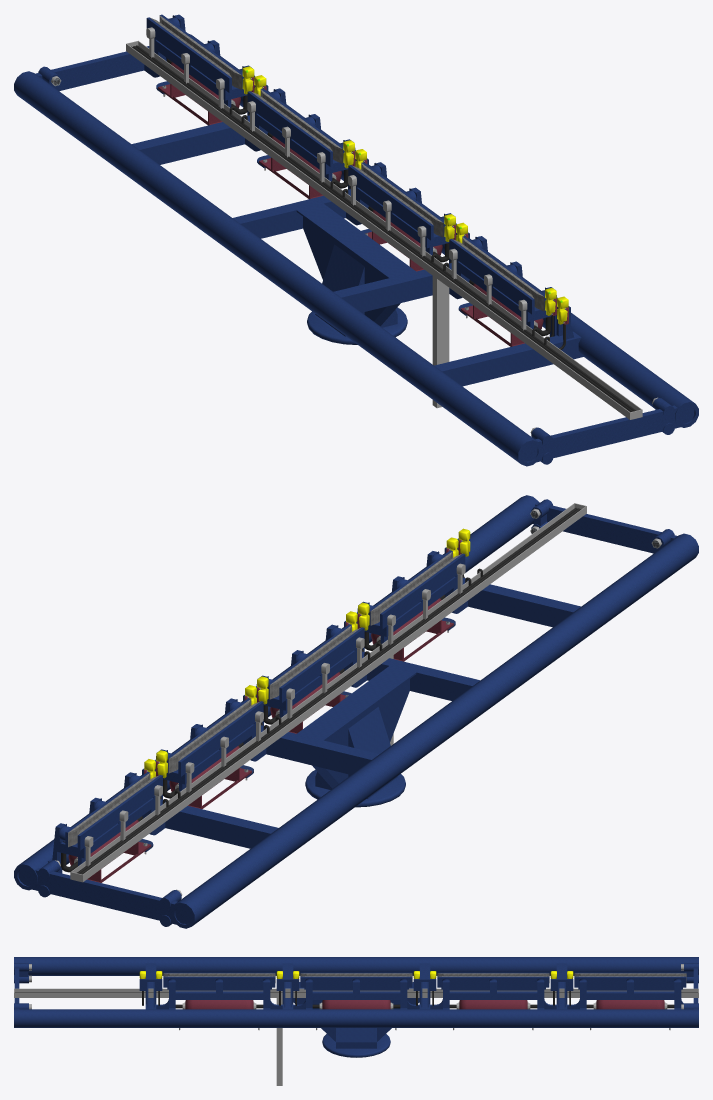
The model's file is Block Section Standard.dae.
The picture shows the model from 3 angles, top to bottom: view 1: azimuth 30°, elevation 25°; view 2: azimuth 150°, elevation 25°; view 3: azimuth 270°, elevation 25°; orthographic projection. The views are drawn at different scales.
Visible parts, largest first — view 1: Track (×8), Mid_Detail (×9), High_Detail (×3), Clamps (×4); view 2: Track (×8), Mid_Detail (×9), High_Detail (×3), Clamps (×4); view 3: Track (×8), Mid_Detail (×14), Clamps (×4), High_Detail (×5).
Part boxes in pixels (x1,y1,x2,y2): Track (×8): [14, 34, 698, 466]; Mid_Detail (×9): [126, 14, 642, 419]; High_Detail (×3): [131, 45, 636, 412]; Clamps (×4): [159, 15, 544, 311]; Track (×8): [14, 495, 698, 928]; Mid_Detail (×9): [47, 503, 586, 882]; High_Detail (×3): [77, 507, 581, 874]; Clamps (×4): [68, 551, 452, 847]; Track (×8): [14, 957, 698, 1057]; Mid_Detail (×14): [14, 972, 698, 1085]; Clamps (×4): [163, 976, 686, 987]; High_Detail (×5): [14, 979, 698, 1007].
Size of the model in its own units: 40.76 by 197 by 37.68.
42 materials, 36 textured.
